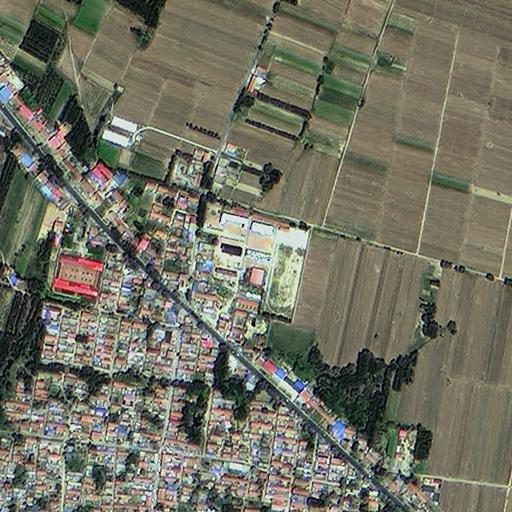school: (208, 204, 307, 326)
